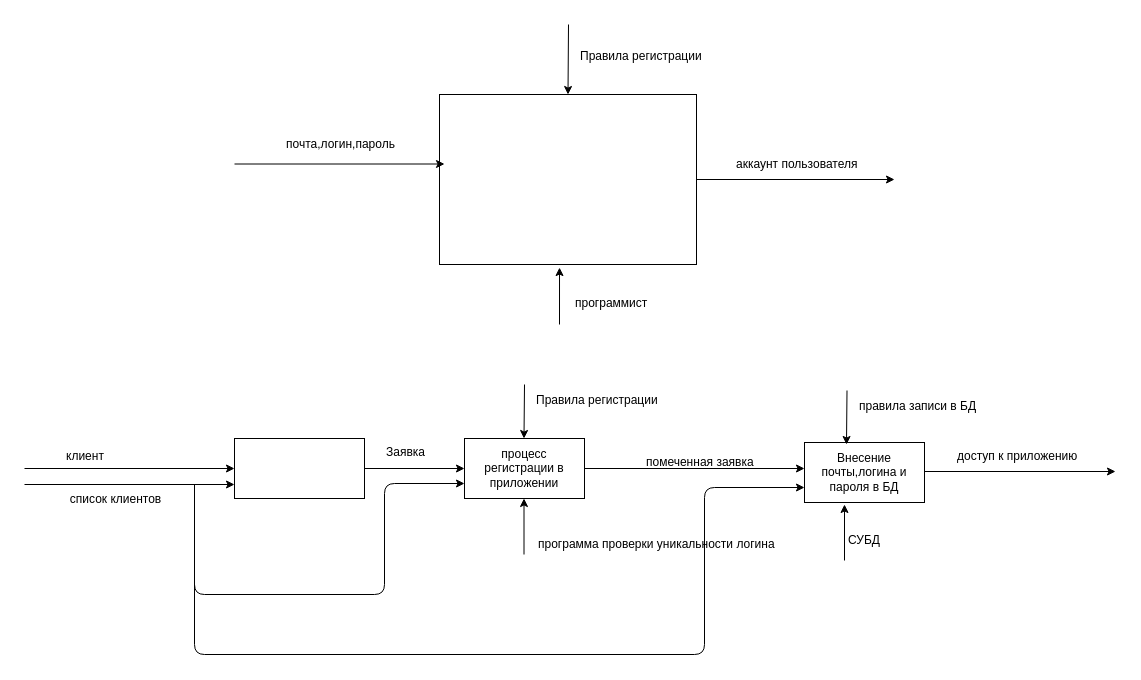
Image size: 1141x680. Some labels were removed from this diagram. Each missing label, with the centre of its shape:
Ввод почты,пароля и логина: (299,468)
Регистрировать пользователя в приложении: (567,179)
